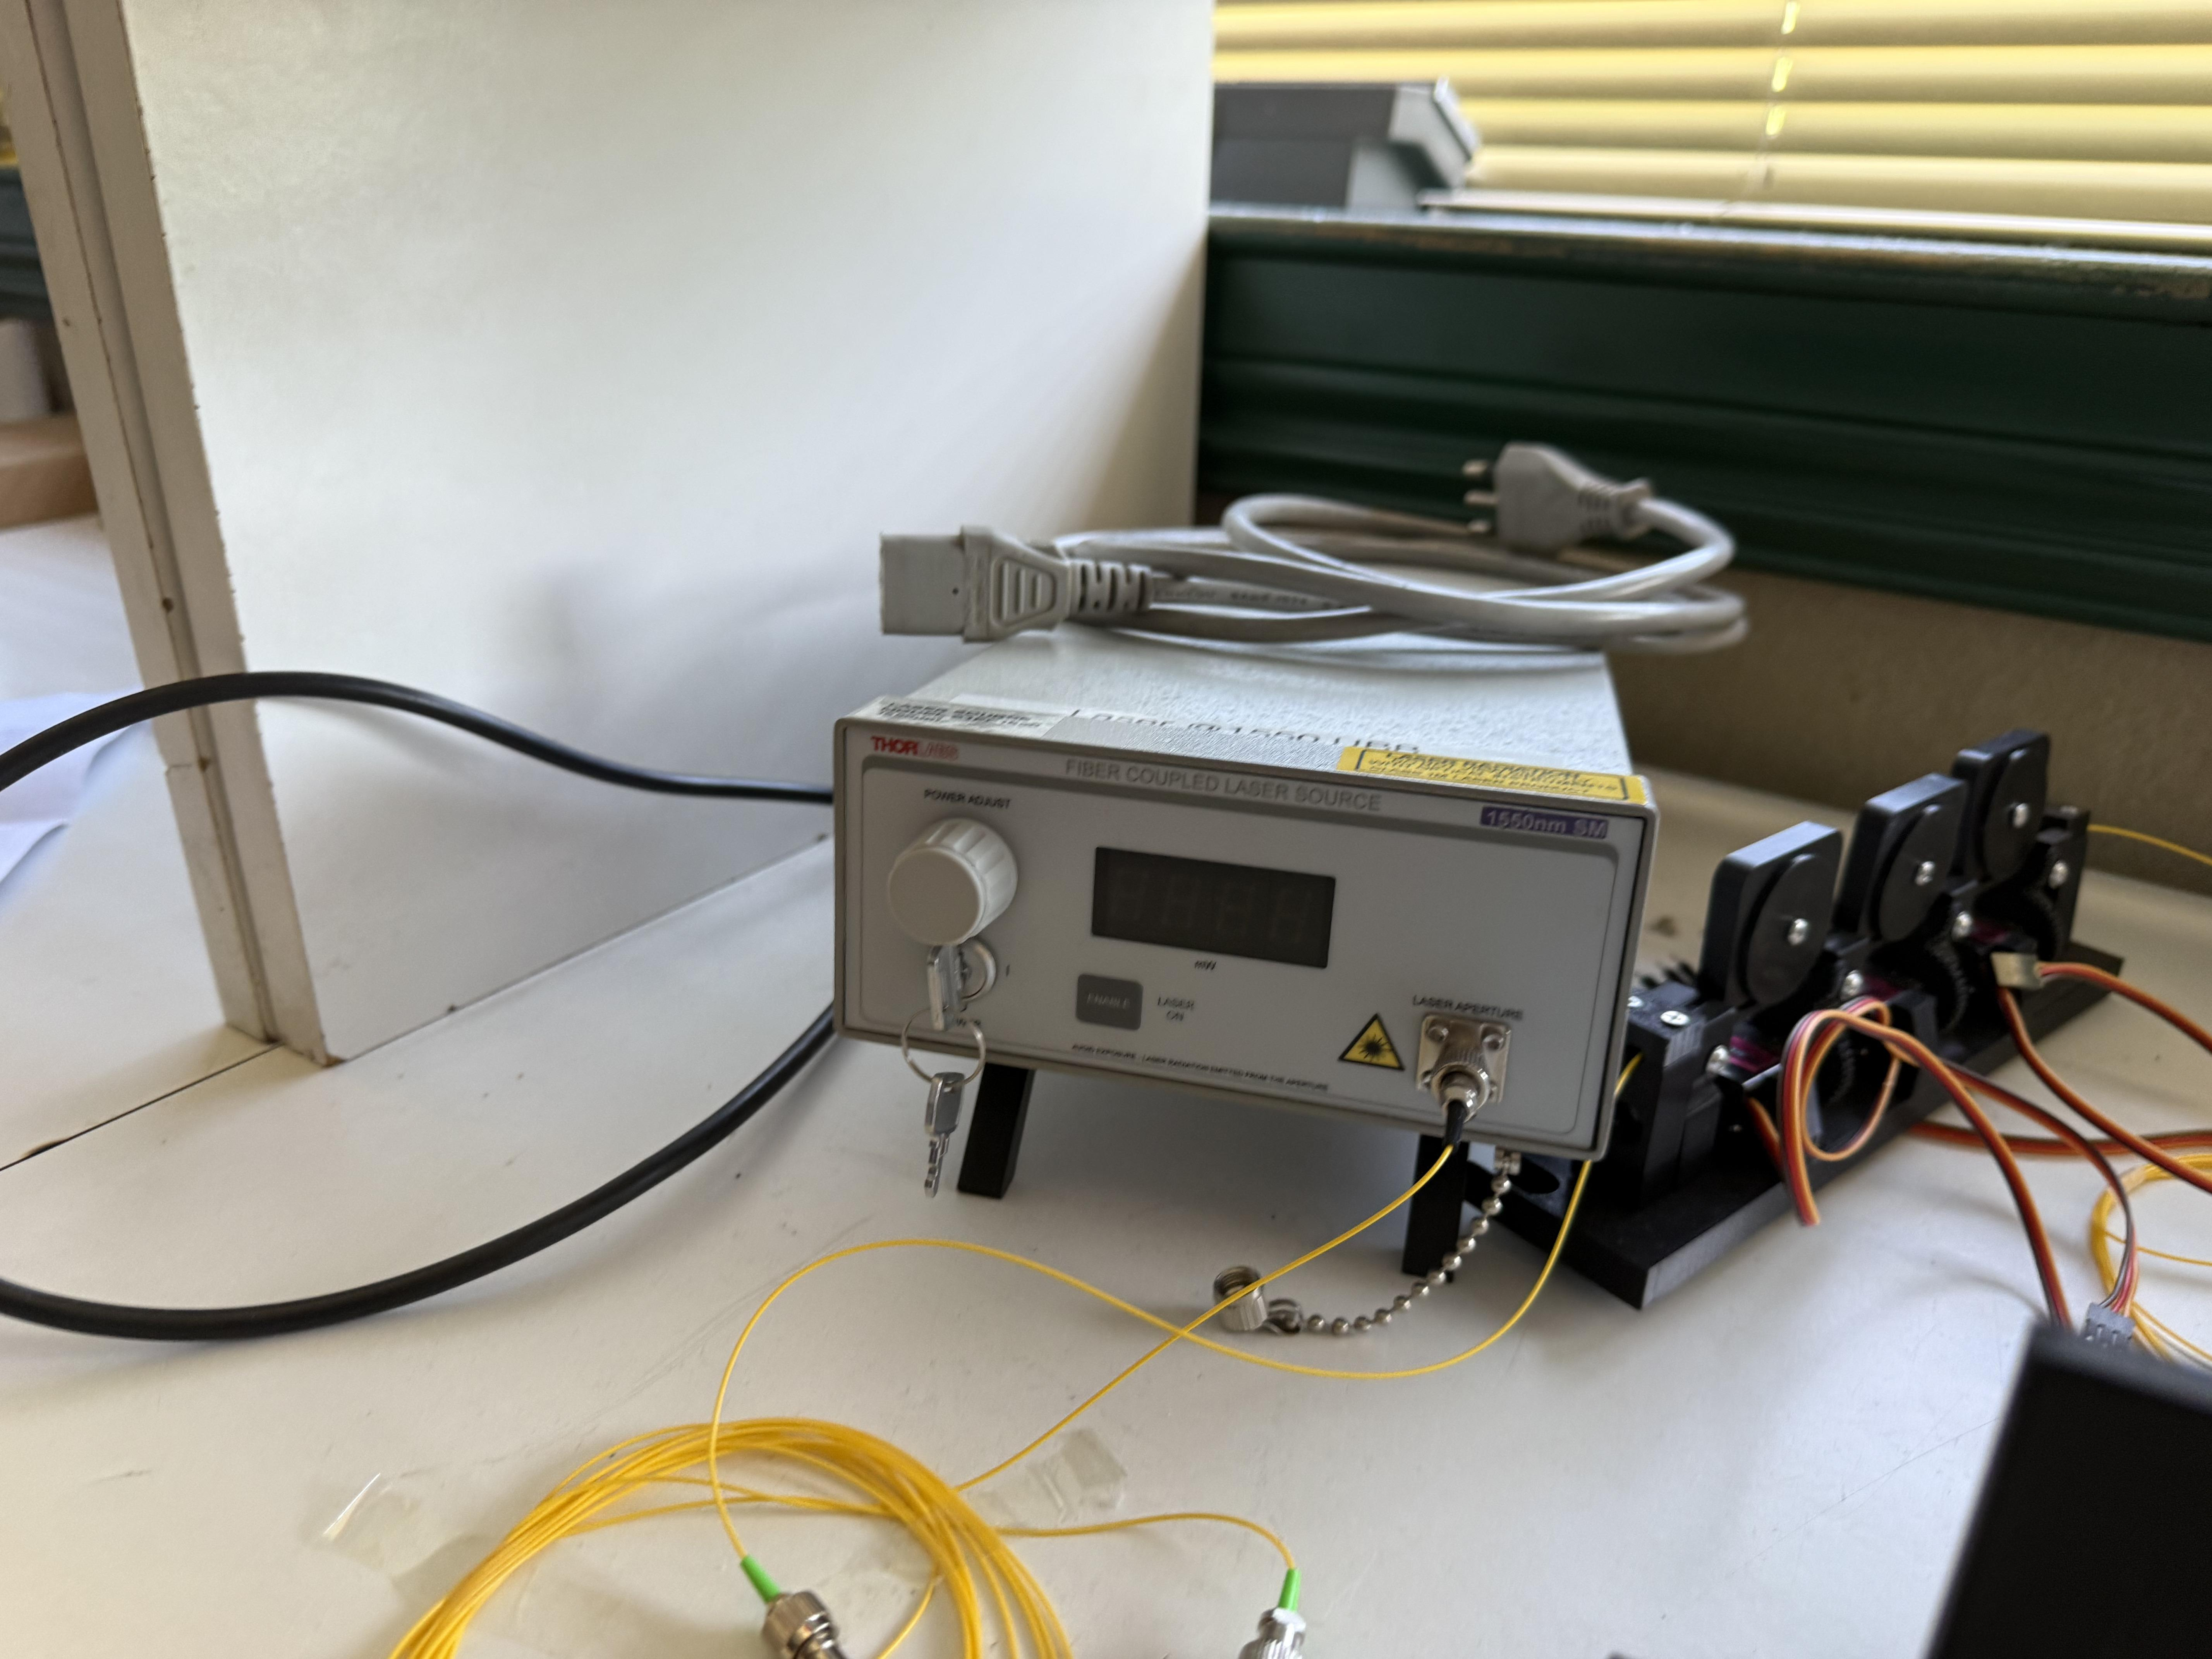fiber_cable: (307, 1391, 1144, 1659)
laser: (833, 434, 1644, 1302)
paddle_polarization_controller: (1494, 730, 2153, 1286)
